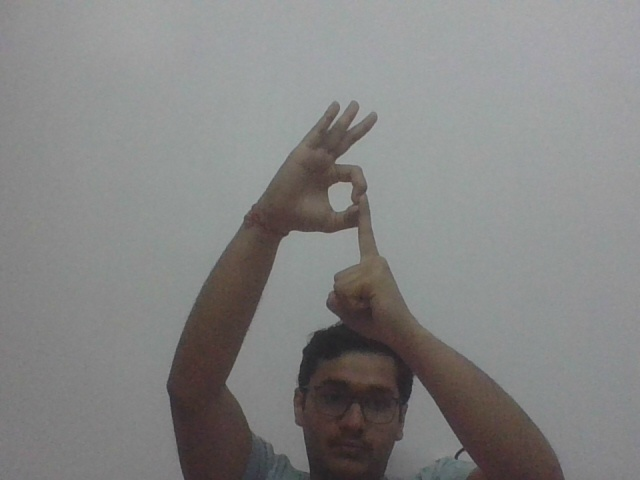P: (281, 99, 406, 338)
